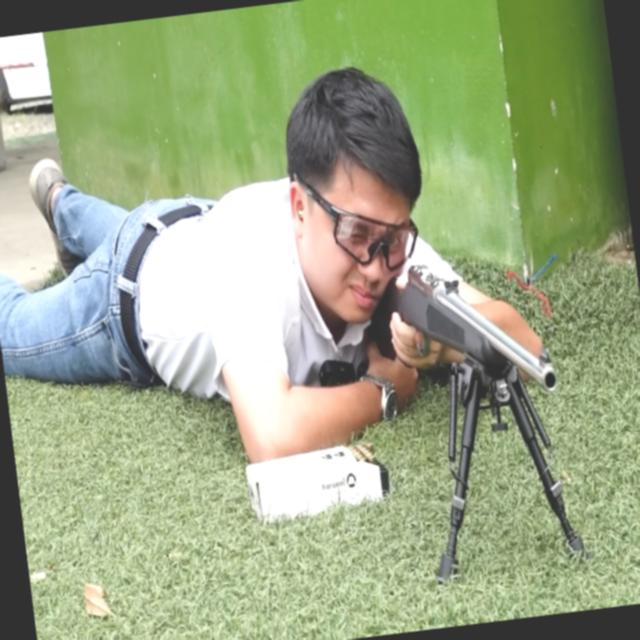rifle: (352, 233, 597, 600)
